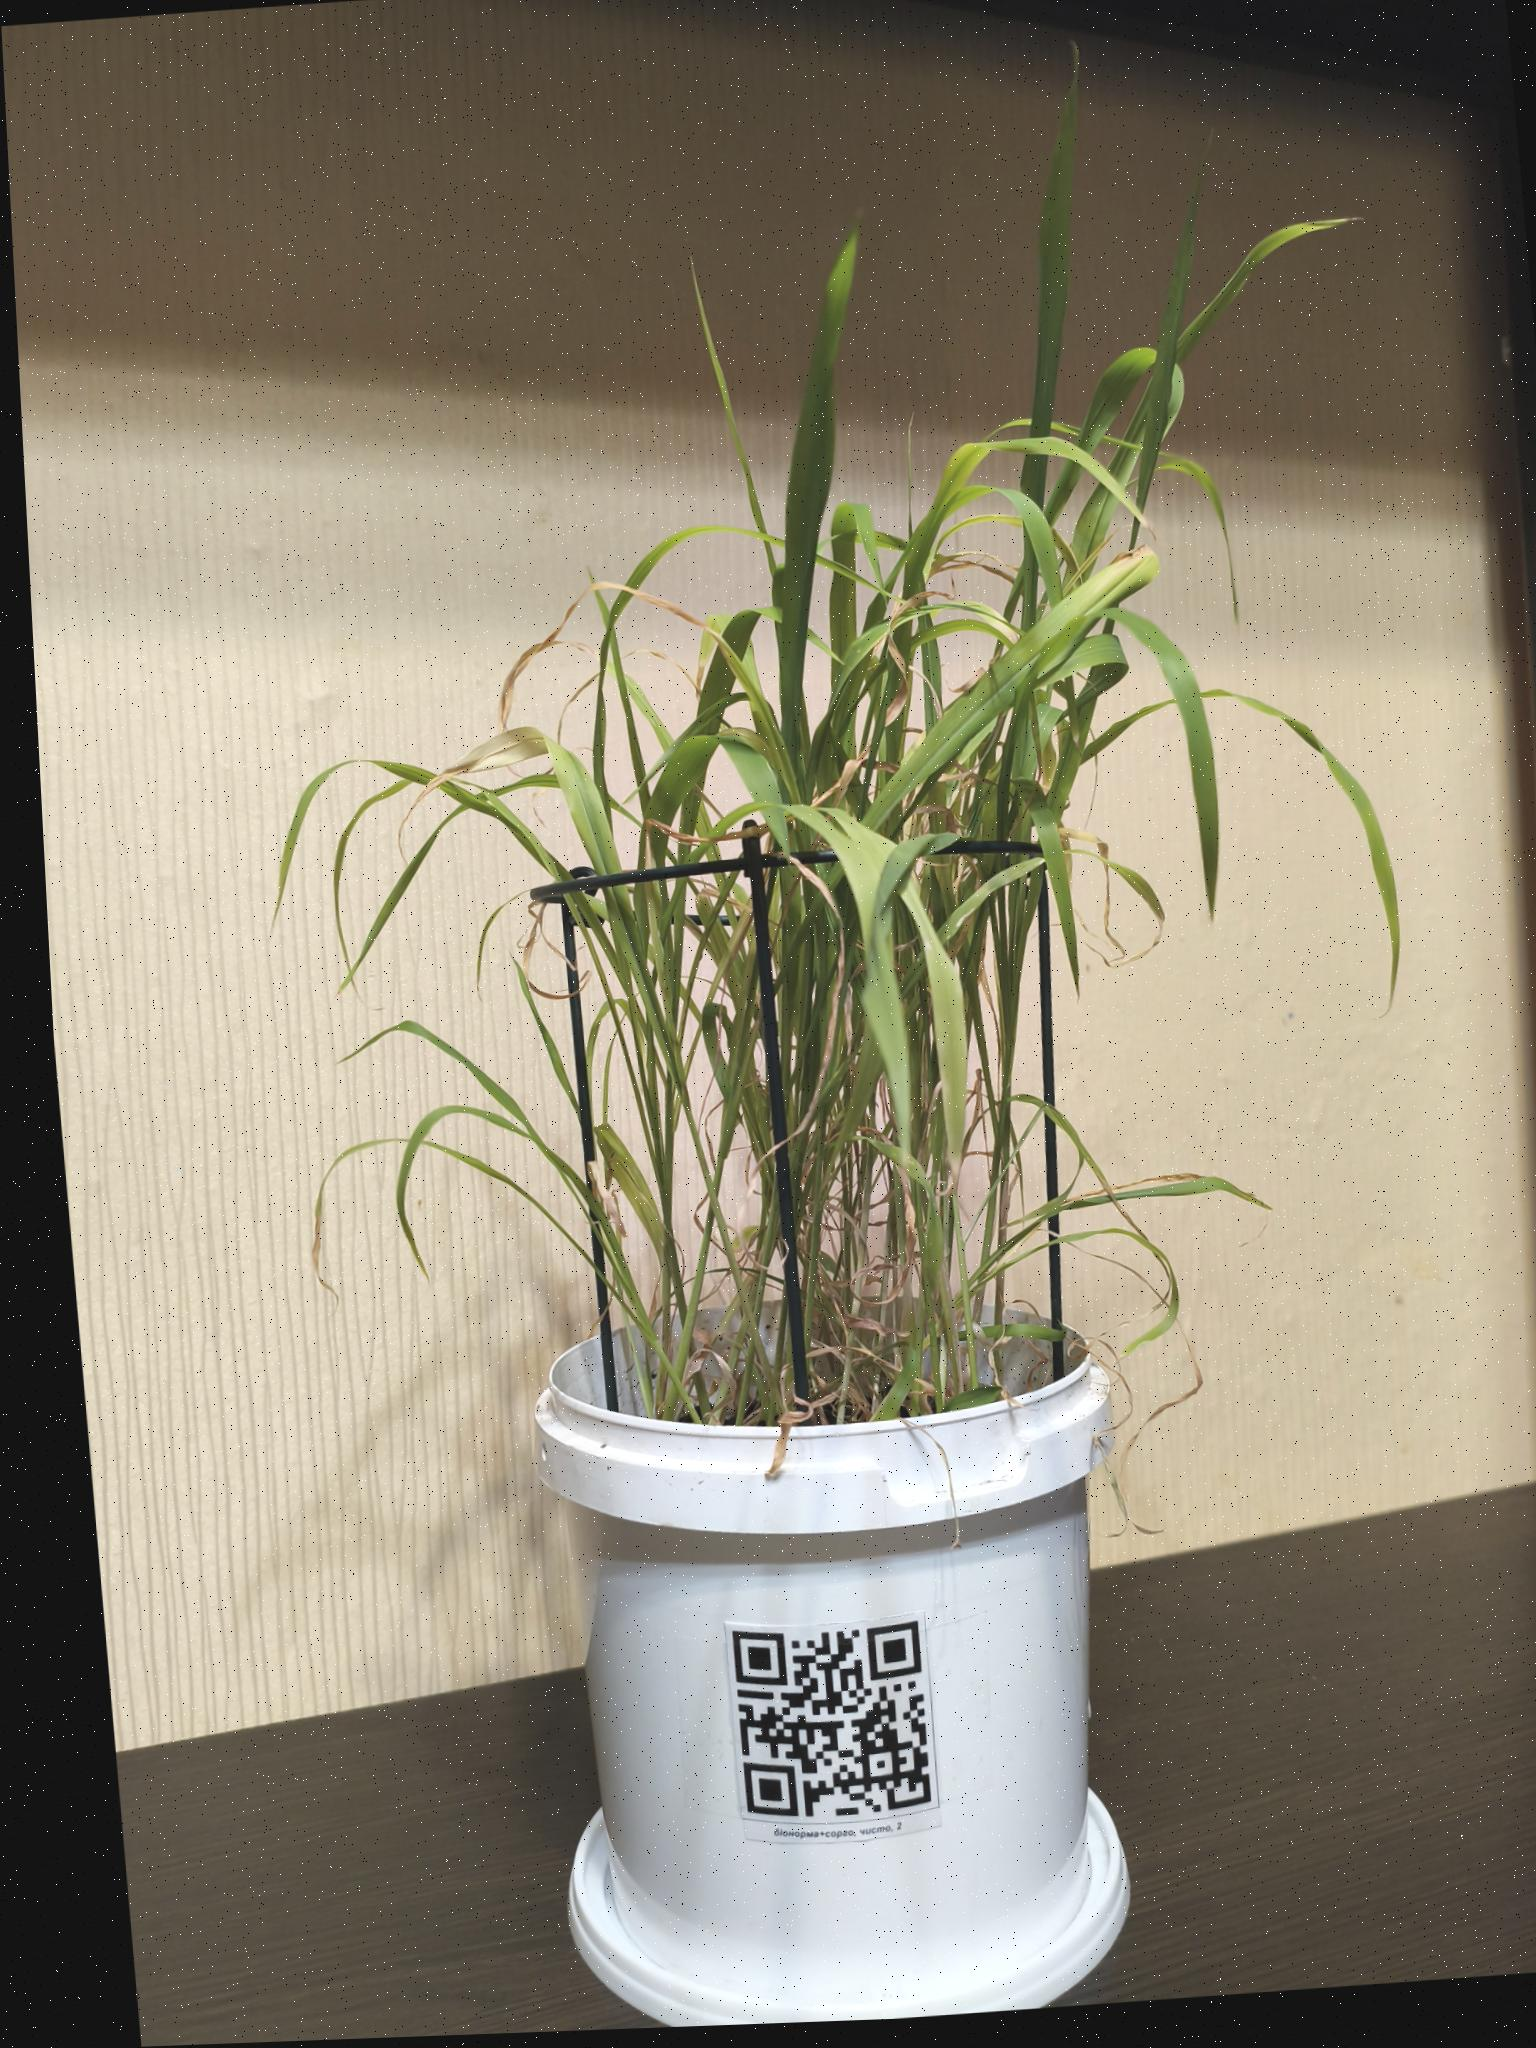container: (532, 1297, 1131, 2027)
stem: (682, 1111, 789, 1414), (660, 1159, 726, 1419), (608, 1248, 703, 1422), (734, 1206, 779, 1424), (834, 1193, 874, 1422), (912, 1208, 947, 1409), (707, 1295, 755, 1424), (950, 1193, 981, 1388), (973, 1155, 1002, 1327), (992, 1148, 1013, 1385), (618, 1300, 655, 1414), (870, 1237, 892, 1409), (803, 1214, 823, 1376), (766, 1284, 787, 1424), (653, 1272, 673, 1401)
